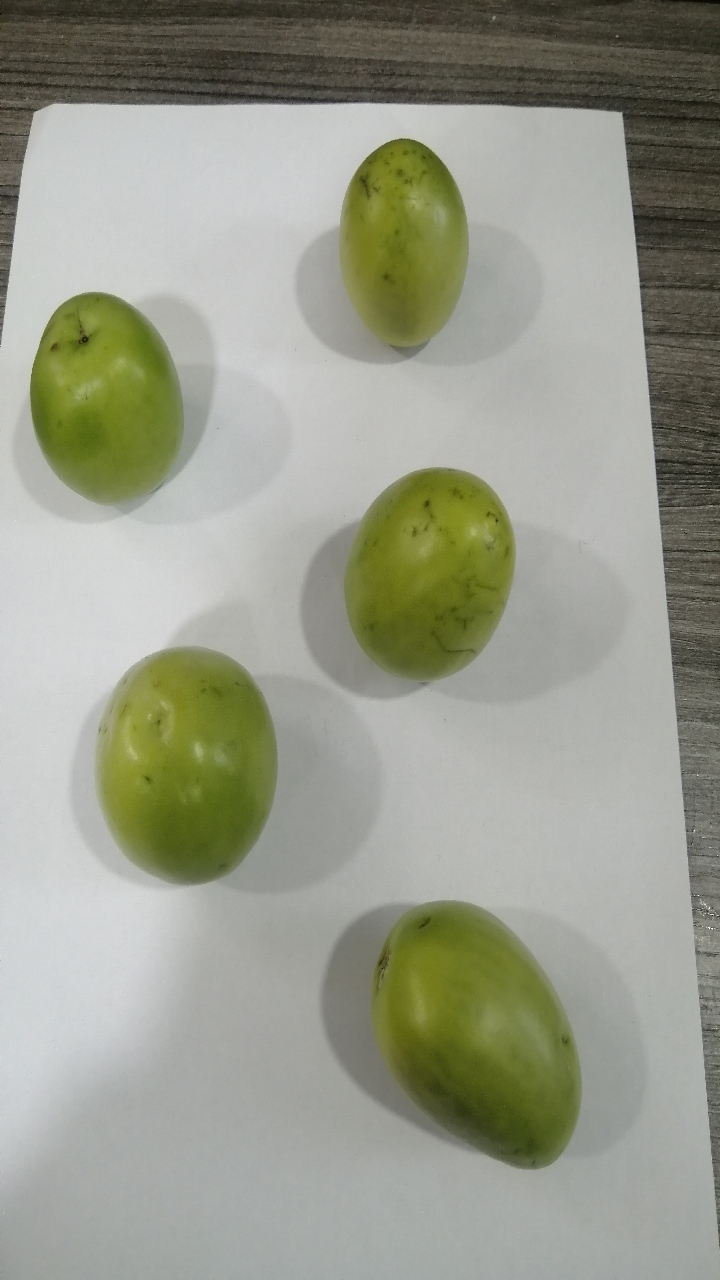tomateVerde: (343, 862, 604, 1182), (314, 437, 552, 709), (86, 622, 308, 902), (14, 269, 212, 531), (317, 117, 491, 348)
